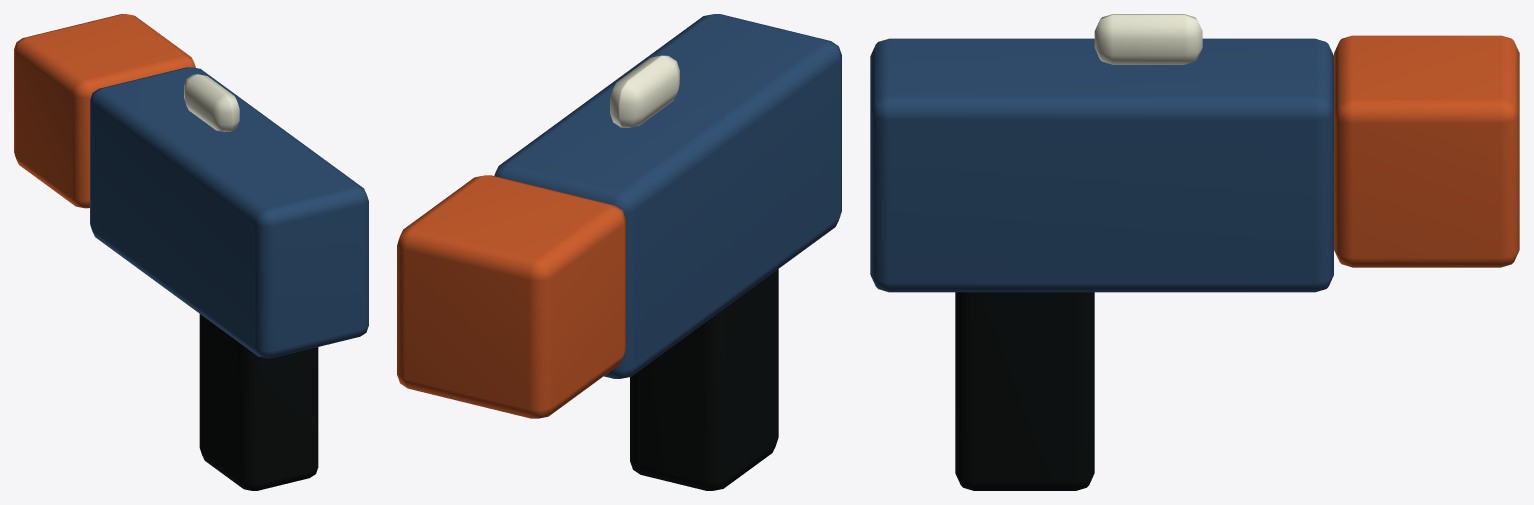
File: gun.glb
3 views of the same model, side by side, from view 1: azimuth 30°, elevation 25°; view 2: azimuth 150°, elevation 25°; view 3: azimuth 270°, elevation 25° (orthographic). The views are drawn at different scales.
Visible parts, largest first — view 1: V2_gun_blue.005, V2_gun_orange.005, V2_gun_dark.005, V2_gun_white.005; view 2: V2_gun_blue.005, V2_gun_orange.005, V2_gun_dark.005, V2_gun_white.005; view 3: V2_gun_blue.005, V2_gun_orange.005, V2_gun_dark.005, V2_gun_white.005.
Boxes of the visible parts, bbox=[...] form: V2_gun_blue.005: bbox=[90, 67, 368, 358]; V2_gun_orange.005: bbox=[14, 14, 195, 208]; V2_gun_dark.005: bbox=[199, 314, 318, 490]; V2_gun_white.005: bbox=[184, 74, 239, 131]; V2_gun_blue.005: bbox=[494, 14, 841, 378]; V2_gun_orange.005: bbox=[397, 175, 625, 418]; V2_gun_dark.005: bbox=[630, 269, 778, 490]; V2_gun_white.005: bbox=[610, 55, 679, 127]; V2_gun_blue.005: bbox=[870, 38, 1333, 292]; V2_gun_orange.005: bbox=[1334, 35, 1519, 267]; V2_gun_dark.005: bbox=[955, 292, 1094, 490]; V2_gun_white.005: bbox=[1094, 14, 1202, 64].
Size of the model in its own units: 0.12 by 0.3275 by 0.42.
